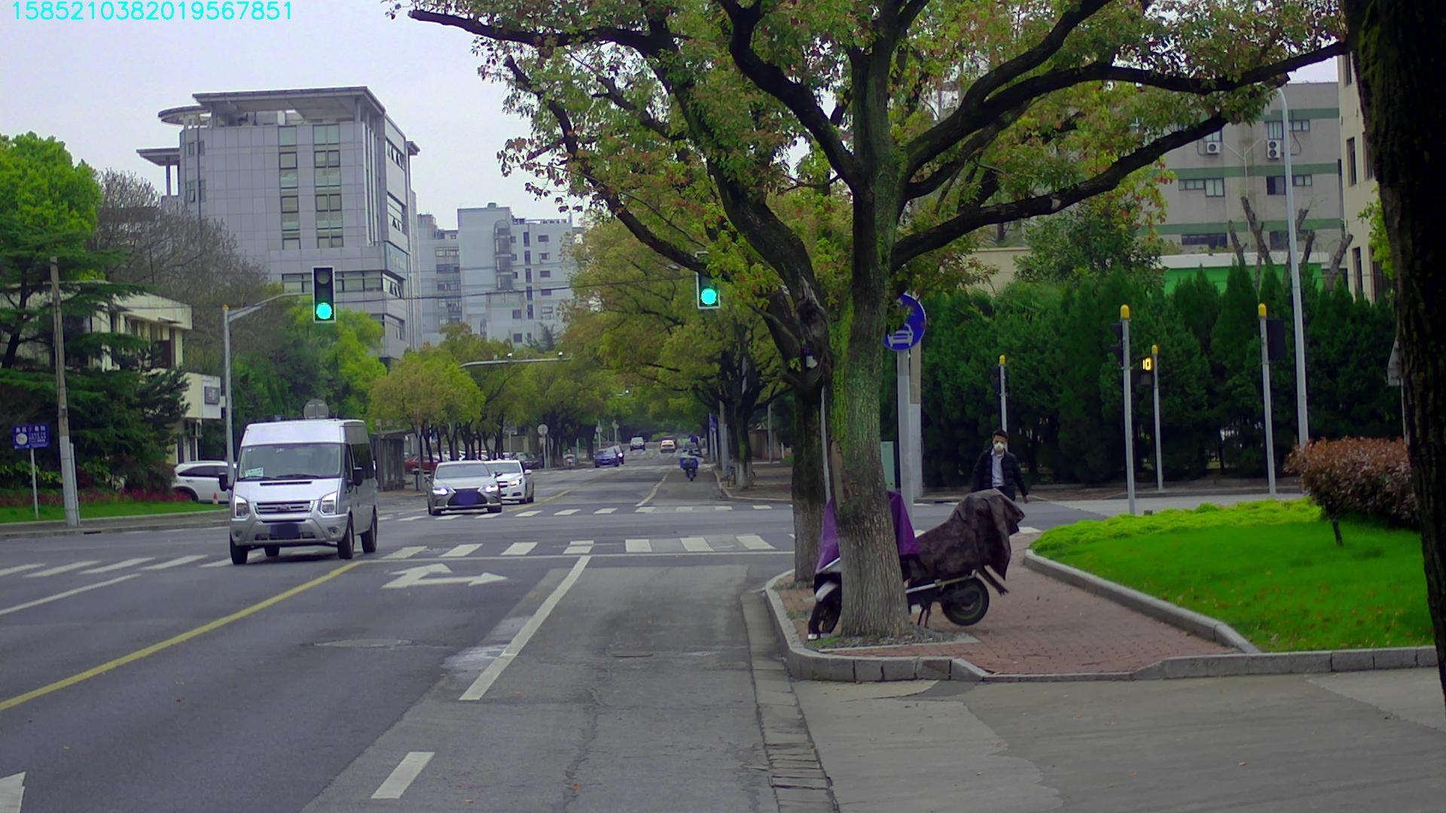green: (697, 253, 719, 307), (313, 266, 334, 321)
